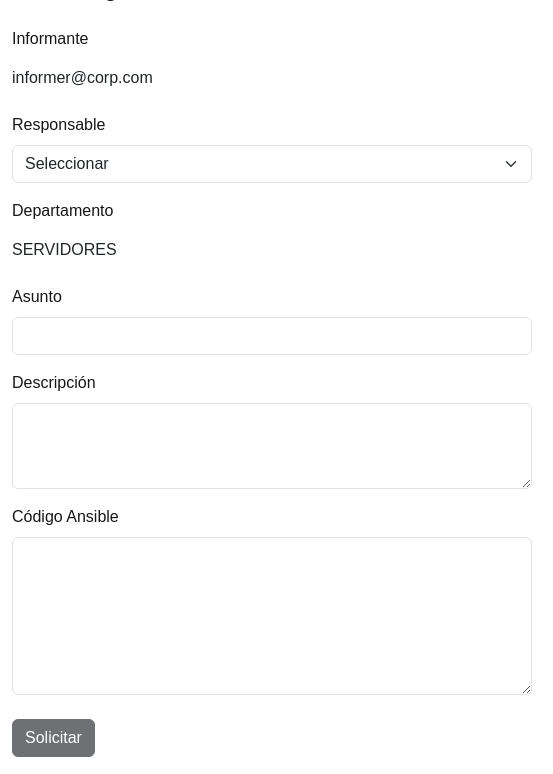
Test: ServerManagementTicketForm › shows a submitting label while the request is pending
This screenshot has width=553, height=774.
Select "Ana" in the dropdown labelled "Responsable" at (272, 164), box [12, 145, 532, 183]
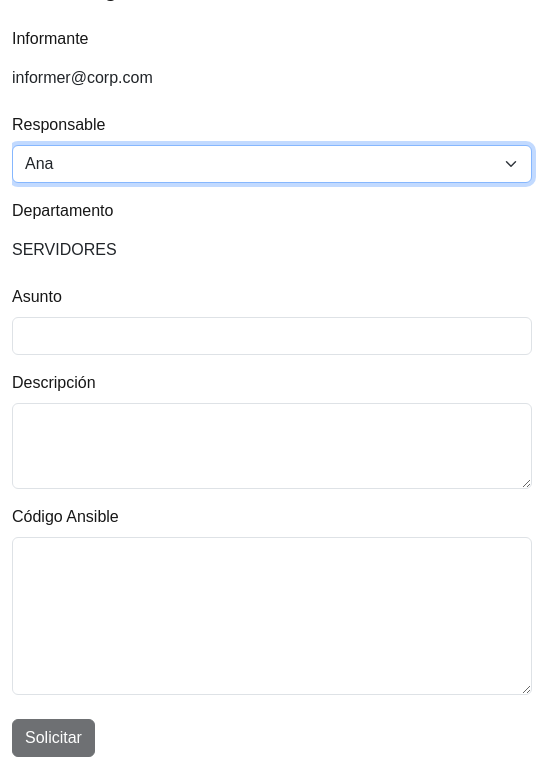
Type "Add index" into the field labelled "Asunto" at (272, 336), box [12, 317, 532, 355]
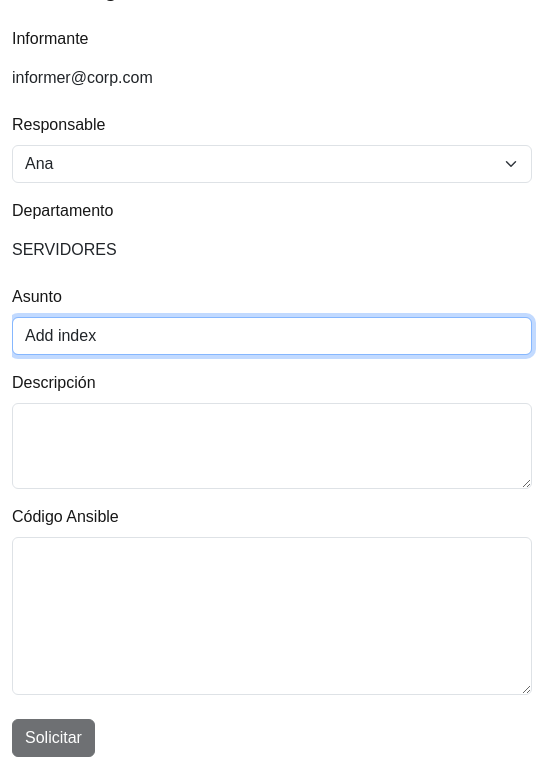
Type "Needs an index" into the text box labelled "Descripción" at (272, 446), box [12, 403, 532, 489]
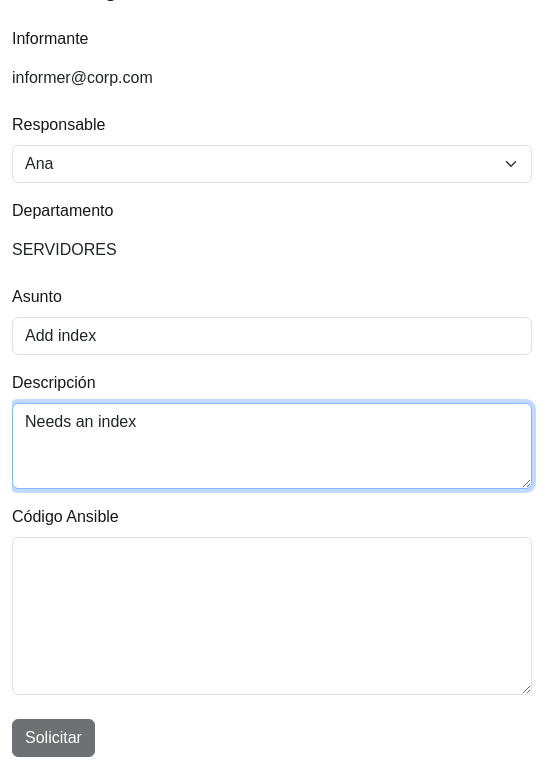
Type "- hosts: all" into the text box labelled "Código Ansible" at (272, 616), box [12, 537, 532, 695]
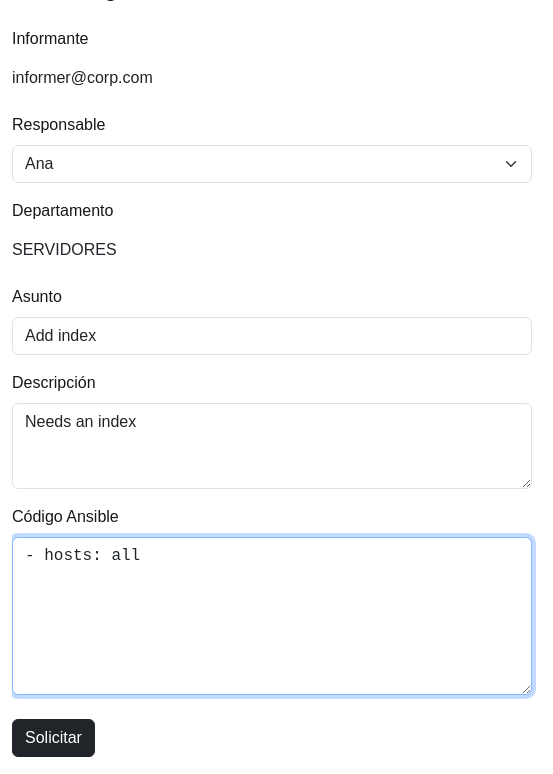
Click the button "Solicitar" at (53, 738), box [12, 719, 95, 757]
(page scrolled)
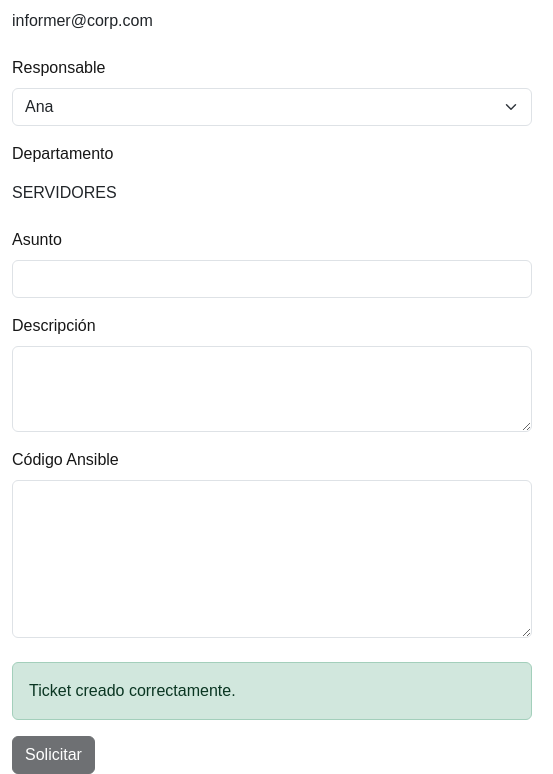
Expected: the button named "Enviando…" is disabled, [12, 736, 95, 773]
